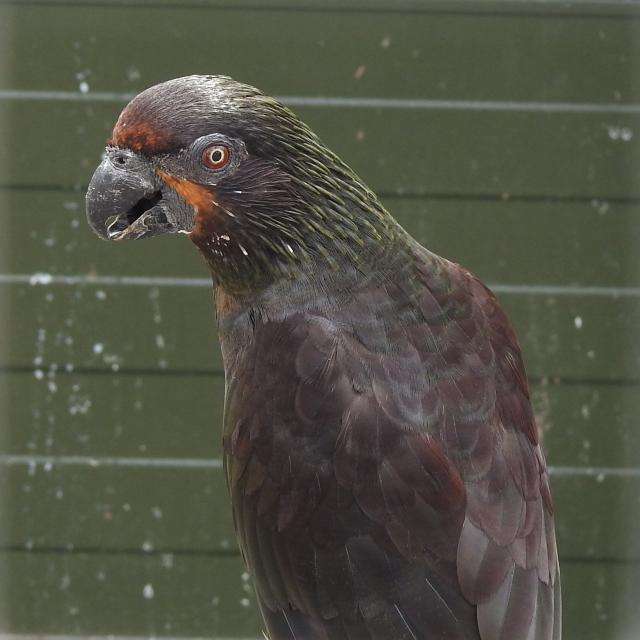Nuri Hitam: (55, 40, 582, 640)
